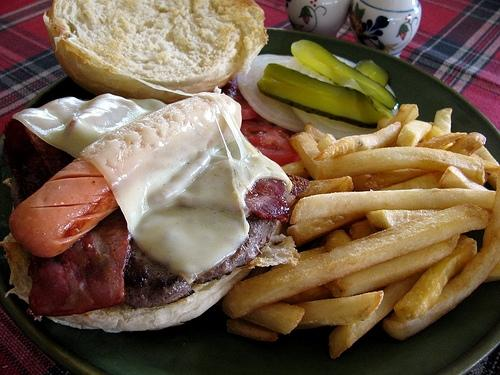tomato: (240, 116, 301, 166)
